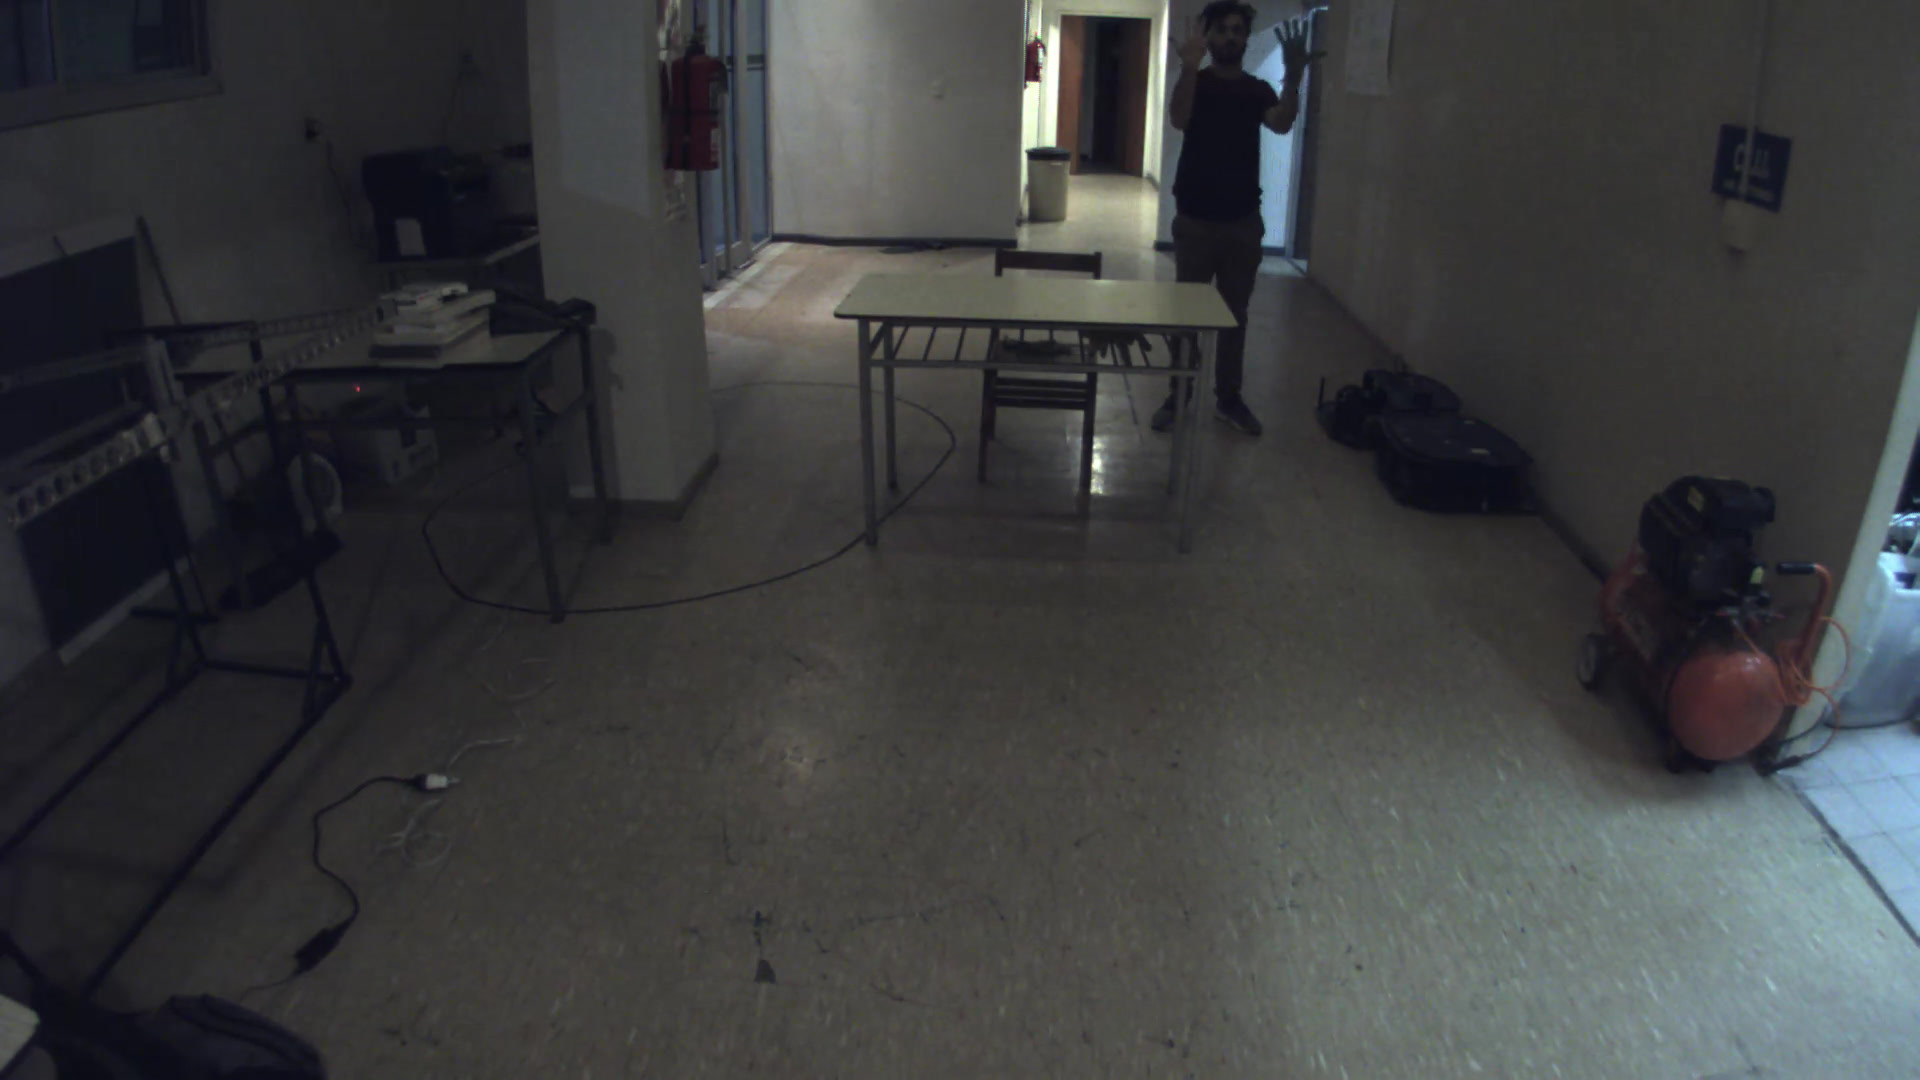hand: (1160, 12, 1228, 78), (1263, 16, 1329, 80)
